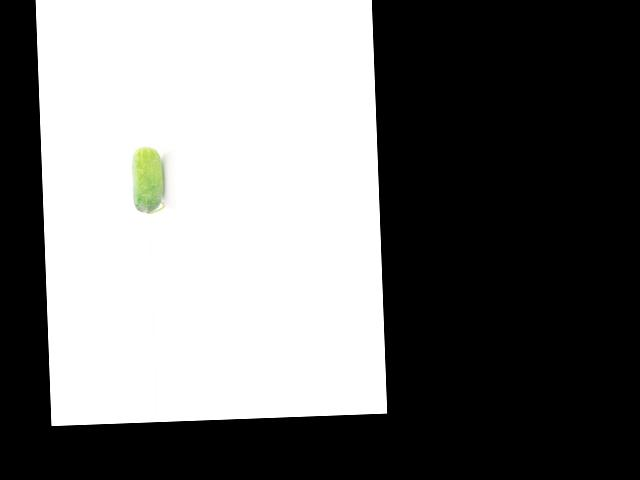cucumber: (131, 145, 165, 213)
